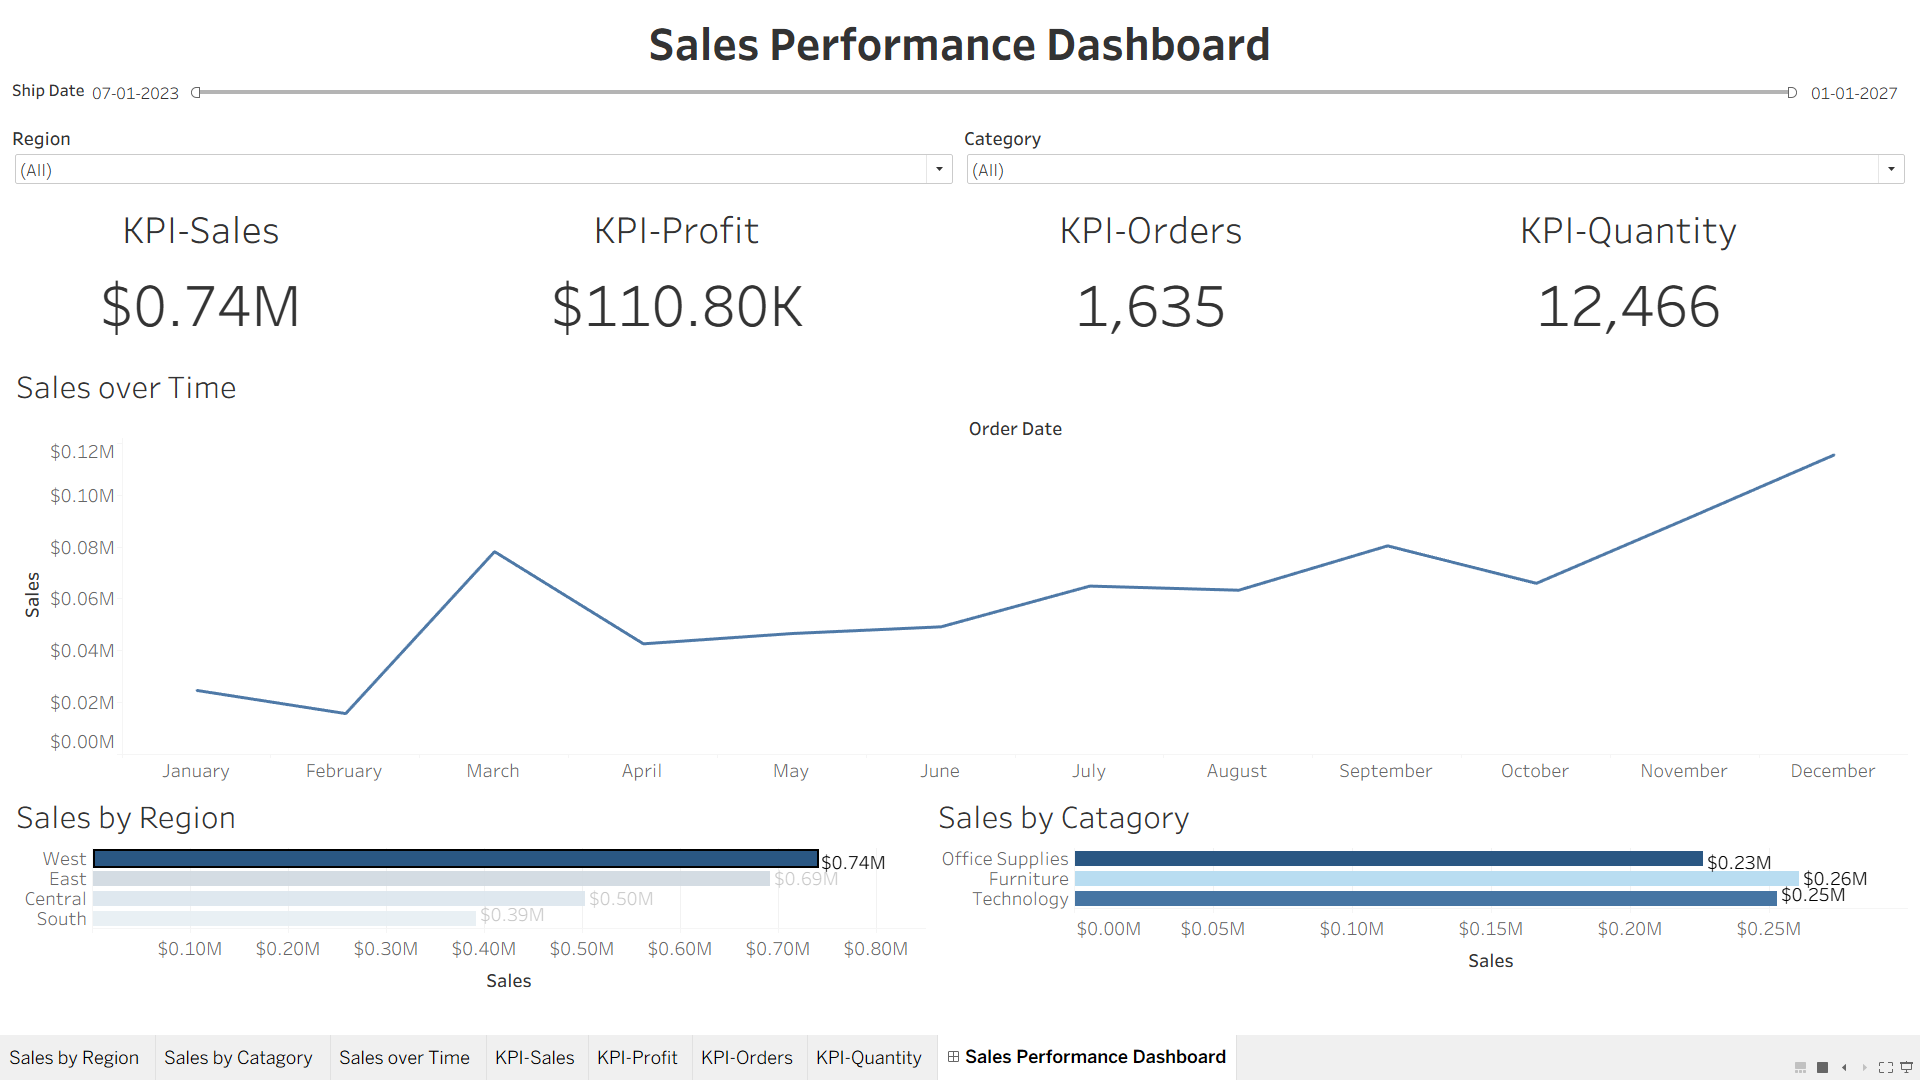

Layout of this report page (visuals, bound fields, positions):
{"tool":"tableau","page":{"name":"Sales Performance Dashboard","canvas":[1000,1000],"units":"permille","ordinal":0},"visuals":[{"type":"title","box":[5,8.9,989.9,75.6]},{"type":"filter","title":"Sales over Time","param":"[federated.0k5lg7b1i2wy1l1gqv2mb1i7kvae].[none:Ship Date:qk]","box":[5,84.5,989.9,42.5]},{"type":"filter","title":"Sales by Region","param":"[federated.0k5lg7b1i2wy1l1gqv2mb1i7kvae].[none:Region:nk]","box":[5,126.7,495,72.2]},{"type":"filter","title":"Sales by Catagory","param":"[federated.0k5lg7b1i2wy1l1gqv2mb1i7kvae].[none:Category:nk]","box":[500,126.7,495,72.2]},{"type":"worksheet","title":"KPI-Sales","mark":"Automatic","box":[5,198.9,247.5,153.3]},{"type":"worksheet","title":"KPI-Profit","mark":"Automatic","box":[252.5,198.9,247.5,153.3]},{"type":"worksheet","title":"KPI-Orders","mark":"Automatic","box":[500,198.9,247.5,153.3]},{"type":"worksheet","title":"KPI-Quantity","mark":"Automatic","box":[747.5,198.9,247.5,153.3]},{"type":"worksheet","title":"Sales over Time","mark":"Line","rows":["Sales"],"cols":["Order Date"],"box":[5,352,989.9,410.2]},{"type":"worksheet","title":"Sales by Region","mark":"Bar","rows":["Region"],"cols":["Sales"],"box":[5,762.2,476.1,228.9]},{"type":"worksheet","title":"Sales by Catagory","mark":"Automatic","rows":["Category"],"cols":["Sales"],"box":[481.1,762.2,513.9,228.9]}]}

Visuals, with their boxes on the dashboard's canvas, which has no fixed pixel size, in thousandths of its width and height (x1, y1, x2, y2). These are canvas units, not pixel positions in the 1920x1080 screenshot, which may show the page scaled, cropped or inside an application window:
title: {"left": 5, "top": 9, "right": 995, "bottom": 84}
"Sales over Time" filter: {"left": 5, "top": 84, "right": 995, "bottom": 127}
"Sales by Region" filter: {"left": 5, "top": 127, "right": 500, "bottom": 199}
"Sales by Catagory" filter: {"left": 500, "top": 127, "right": 995, "bottom": 199}
"KPI-Sales" worksheet: {"left": 5, "top": 199, "right": 252, "bottom": 352}
"KPI-Profit" worksheet: {"left": 252, "top": 199, "right": 500, "bottom": 352}
"KPI-Orders" worksheet: {"left": 500, "top": 199, "right": 748, "bottom": 352}
"KPI-Quantity" worksheet: {"left": 748, "top": 199, "right": 995, "bottom": 352}
"Sales over Time" worksheet (Line marks): {"left": 5, "top": 352, "right": 995, "bottom": 762}
"Sales by Region" worksheet (Bar marks): {"left": 5, "top": 762, "right": 481, "bottom": 991}
"Sales by Catagory" worksheet: {"left": 481, "top": 762, "right": 995, "bottom": 991}
